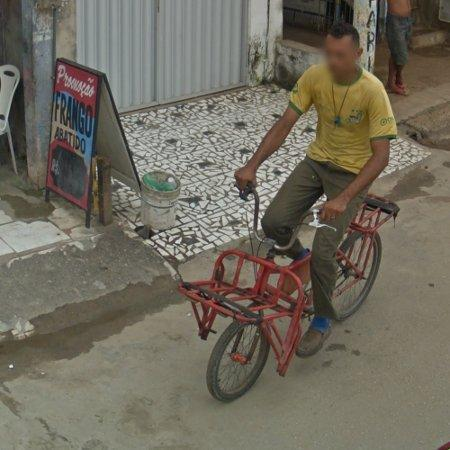bicycles: (178, 185, 314, 402), (333, 195, 401, 320)
